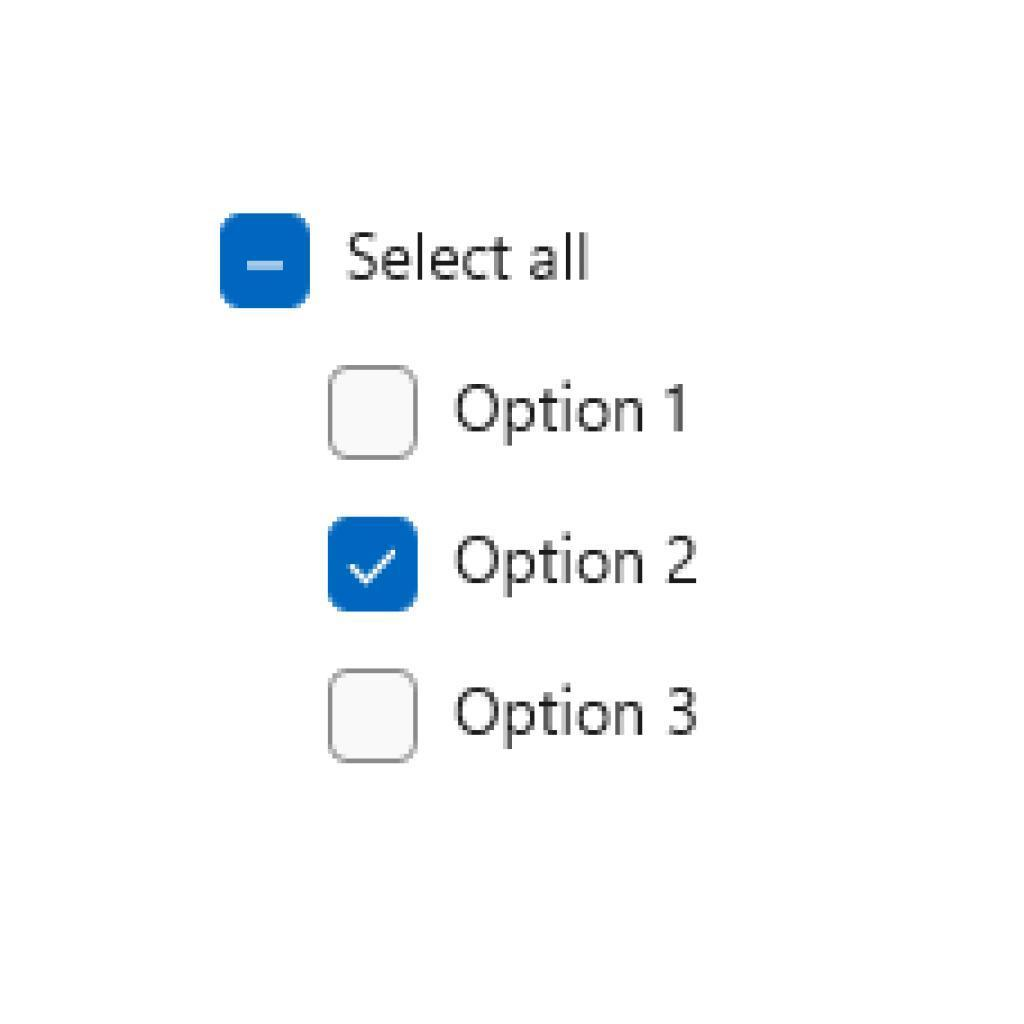checkbox: (324, 515, 420, 613), (328, 672, 419, 763), (331, 369, 420, 462)
icon: (220, 212, 311, 312)
